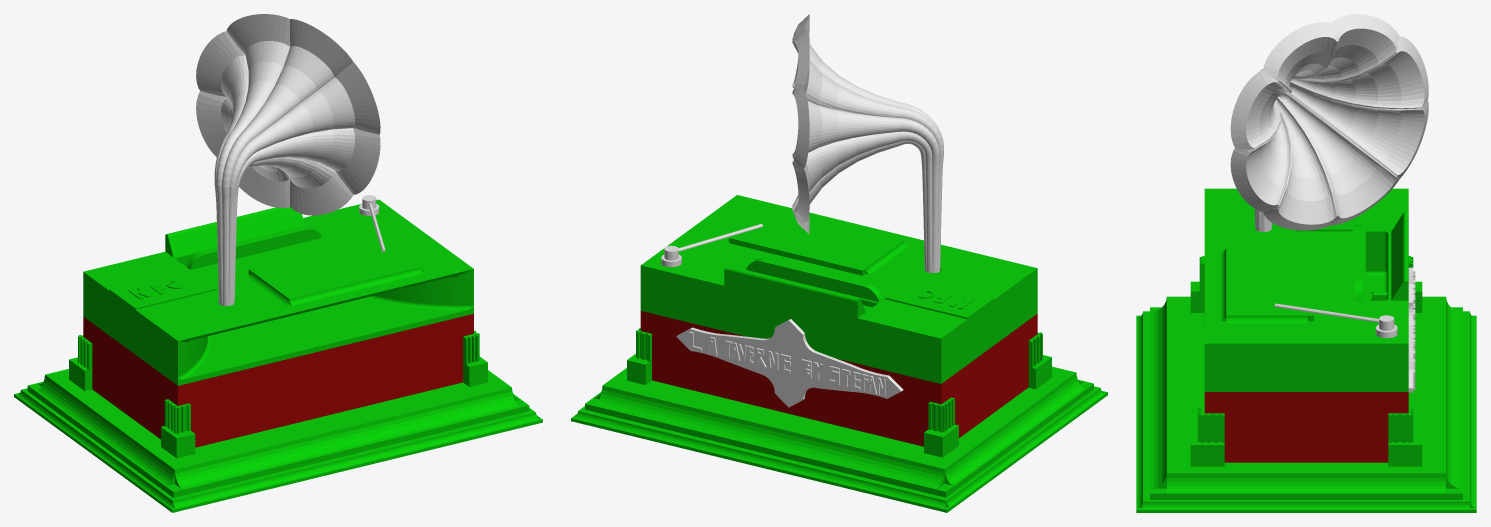
Rendered from mon-modele.glb.
3 views of the same model, side by side, from view 1: azimuth 30°, elevation 25°; view 2: azimuth 150°, elevation 25°; view 3: azimuth 270°, elevation 25° (orthographic). The views are drawn at different scales.
Parts seen in each view (by area): view 1: G-Object.005, G-Object.003, C-Object_0, G-Object.004; view 2: G-Object.005, G-Object.003, G-Object.004, C-Object_0, G-Object.001, _C-afficheur#1 (Loose Mesh), G-Object.002; view 3: G-Object.003, G-Object.005, C-Object_0, G-Object.004, G-Object.002, G-Object.001.
Part boxes in pixels (x1,y1,x2,y2): G-Object.005: [83, 199, 473, 385]; G-Object.003: [14, 330, 542, 512]; C-Object_0: [196, 14, 380, 305]; G-Object.004: [83, 314, 473, 447]; G-Object.005: [640, 195, 1037, 383]; G-Object.003: [571, 328, 1107, 512]; G-Object.004: [640, 311, 1037, 446]; C-Object_0: [792, 14, 943, 272]; G-Object.001: [676, 319, 903, 407]; _C-afficheur#1 (Loose Mesh): [689, 331, 887, 396]; G-Object.002: [661, 224, 762, 267]; G-Object.003: [1136, 256, 1476, 512]; G-Object.005: [1204, 188, 1408, 391]; C-Object_0: [1230, 14, 1428, 231]; G-Object.004: [1204, 392, 1408, 462]; G-Object.002: [1274, 303, 1397, 338]; G-Object.001: [1408, 267, 1413, 392].
Size of the model in its own units: 0.2254 by 0.2202 by 0.1669.
